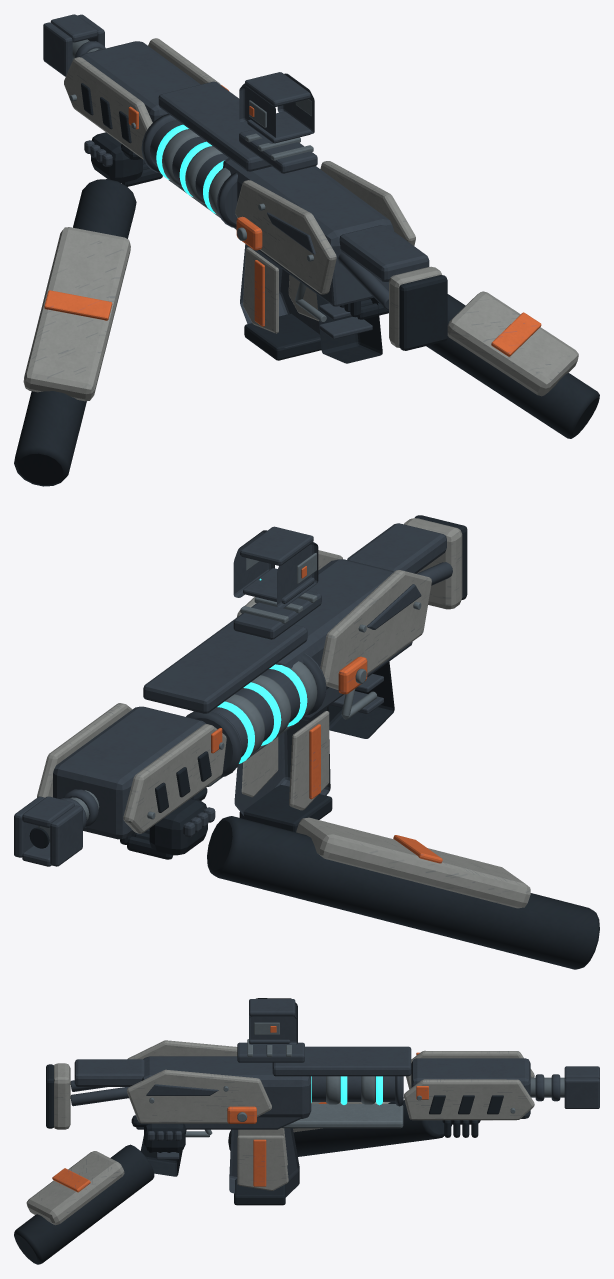
Rendered from ion-rifle.glb.
3 views of the same model, one above another, from view 1: azimuth 30°, elevation 25°; view 2: azimuth 150°, elevation 25°; view 3: azimuth 270°, elevation 25° (orthographic). The views are drawn at different scales.
Visible parts, largest first — view 1: IonRifle_Graphite_frame, IonRifle_Lunar_ceramic, Gauntlet plate.001, SupportHand_Grip_polymer, Gauntlet plate, IonRifle_Grip_polymer, RightHand_Grip_polymer, Optic_Graphite_frame, IonRifle_Machined_alloy, Magazine_Lunar_ceramic, Magazine shoe, Gauntlet stripe.001 (+5 smaller); view 2: IonRifle_Graphite_frame, SupportHand_Grip_polymer, IonRifle_Lunar_ceramic, Gauntlet plate.001, Optic_Graphite_frame, IonRifle_Machined_alloy, IonRifle_Grip_polymer, Magazine_Lunar_ceramic, Magazine shoe, Magazine body, IonRifle_Ion_cyan, IonRifle_Orange_armor (+1 smaller); view 3: IonRifle_Graphite_frame, IonRifle_Lunar_ceramic, RightHand_Grip_polymer, IonRifle_Machined_alloy, SupportHand_Grip_polymer, Gauntlet plate, Magazine_Lunar_ceramic, Optic_Graphite_frame, IonRifle_Grip_polymer, Magazine body, Magazine shoe, Magazine_Orange_armor (+3 smaller).
Boxes of the visible parts, x1,y1,x2,y2 form: IonRifle_Graphite_frame: (43, 14, 429, 339); IonRifle_Lunar_ceramic: (64, 38, 441, 347); Gauntlet plate.001: (23, 227, 130, 401); SupportHand_Grip_polymer: (14, 132, 162, 486); Gauntlet plate: (447, 291, 578, 396); IonRifle_Grip_polymer: (81, 83, 447, 363); RightHand_Grip_polymer: (339, 294, 599, 438); Optic_Graphite_frame: (239, 72, 314, 143); IonRifle_Machined_alloy: (70, 39, 326, 322); Magazine_Lunar_ceramic: (243, 247, 318, 333); Magazine shoe: (244, 313, 321, 360); Gauntlet stripe.001: (44, 290, 112, 320); IonRifle_Graphite_frame: (14, 523, 452, 866); SupportHand_Grip_polymer: (120, 787, 599, 969); IonRifle_Lunar_ceramic: (37, 518, 462, 833); Gauntlet plate.001: (296, 817, 530, 908); Optic_Graphite_frame: (233, 526, 318, 608); IonRifle_Machined_alloy: (38, 593, 421, 842); IonRifle_Grip_polymer: (29, 515, 467, 848); Magazine_Lunar_ceramic: (241, 711, 329, 810); Magazine shoe: (239, 784, 332, 832); Magazine body: (234, 706, 330, 815); IonRifle_Ion_cyan: (217, 664, 307, 763); IonRifle_Orange_armor: (211, 656, 367, 753); IonRifle_Graphite_frame: (70, 1042, 599, 1159); IonRifle_Lunar_ceramic: (54, 1040, 534, 1129); RightHand_Grip_polymer: (14, 1115, 185, 1264); IonRifle_Machined_alloy: (149, 1039, 564, 1137); SupportHand_Grip_polymer: (228, 1100, 480, 1156); Gauntlet plate: (26, 1151, 124, 1225); Magazine_Lunar_ceramic: (237, 1128, 288, 1190); Optic_Graphite_frame: (249, 998, 297, 1044); IonRifle_Grip_polymer: (46, 1064, 503, 1176); Magazine body: (229, 1128, 299, 1197); Magazine shoe: (234, 1178, 285, 1205); Magazine_Orange_armor: (253, 1139, 266, 1186).
Size of the model in its own units: 1.2 by 0.8547 by 1.82.
Materials: 6 (5 with a texture image).
